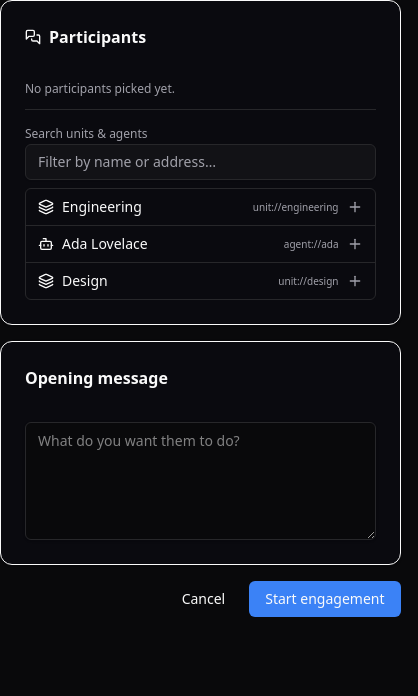
Test: NewEngagementForm — submit › blocks submit with an inline error when the body is empty
What coordinates should you click on to do the following:
click the button with test id "engagement-new-pick-unit-engineering"
I would click on:
 (102, 206)
Its box is [26, 189, 374, 225].
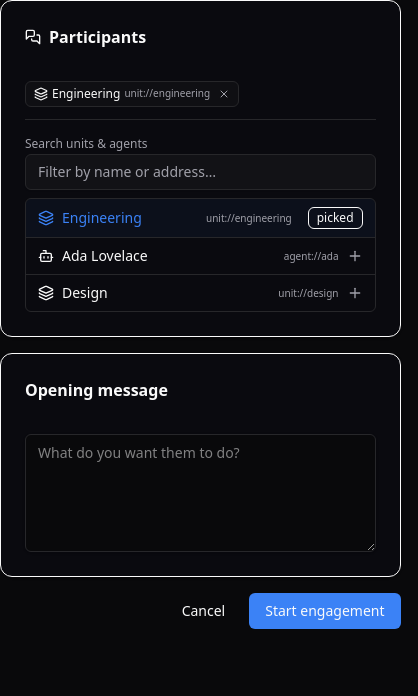
What coordinates should you click on to do the following:
click the button with test id "engagement-new-submit"
I would click on:
 (325, 611)
Its box is [249, 593, 400, 629].
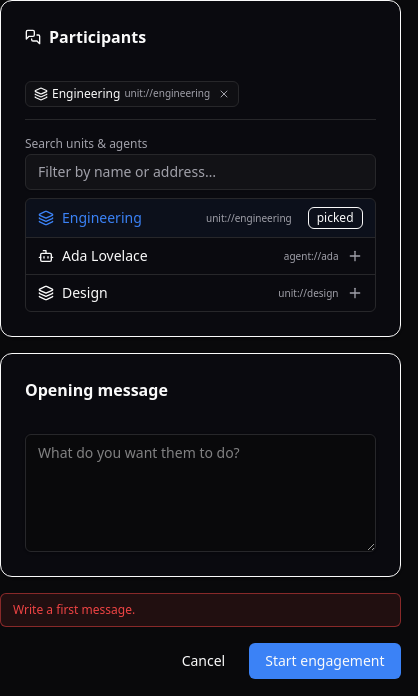
Expected: the message with test id "engagement-new-error" shows "first message", [13, 601, 135, 618]
